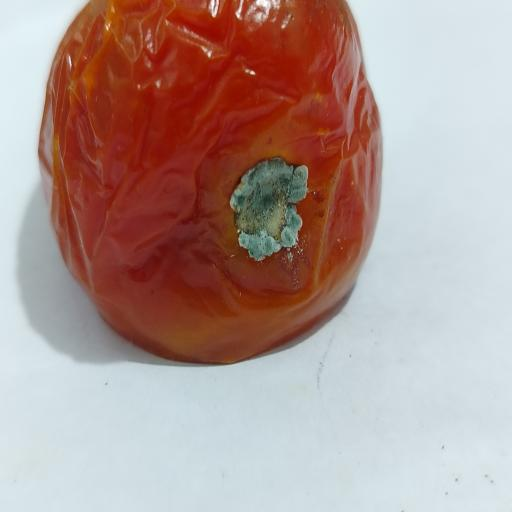spoiled: (39, 0, 382, 362)
